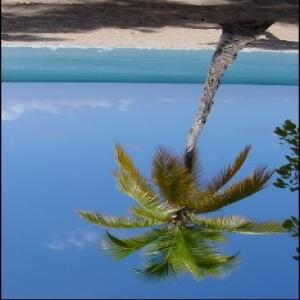palm tree: (74, 140, 295, 282)
